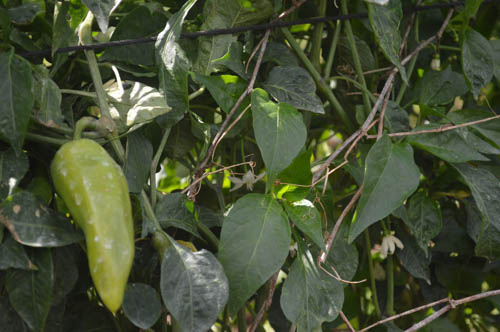ChiliPepper: (53, 139, 136, 315)
